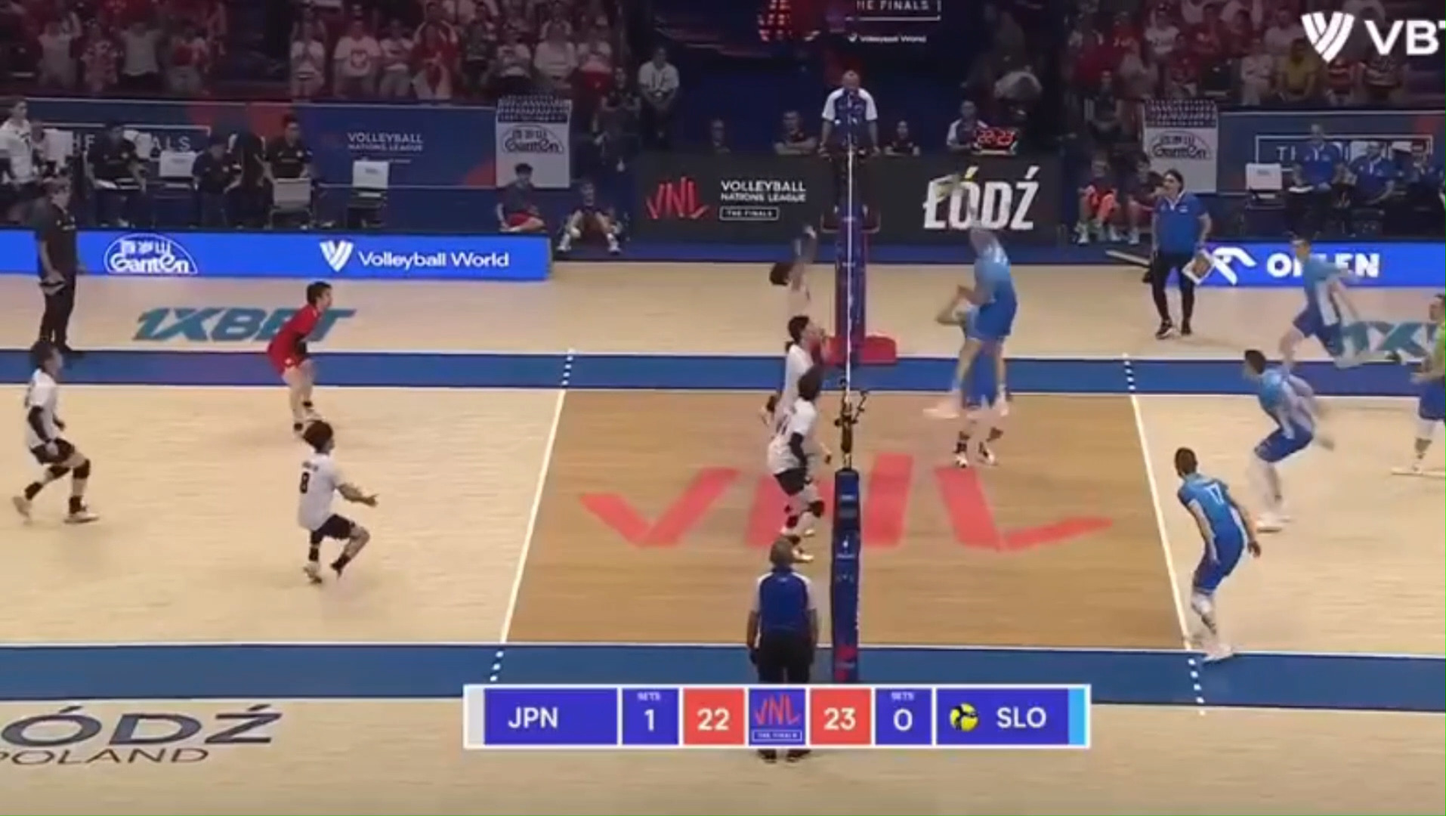ball: (938, 173, 962, 193)
player: (1174, 447, 1261, 661), (1243, 349, 1332, 532), (950, 227, 1018, 413), (1279, 236, 1371, 368), (1395, 295, 1445, 473), (955, 348, 1006, 468), (953, 303, 976, 339)
player 1: (13, 339, 96, 522), (298, 420, 376, 583), (767, 366, 827, 560), (267, 281, 332, 434), (768, 316, 820, 425), (768, 226, 817, 331), (760, 334, 803, 423)
referee: (1144, 168, 1211, 338), (745, 536, 818, 684), (820, 68, 878, 232), (33, 180, 81, 354)
